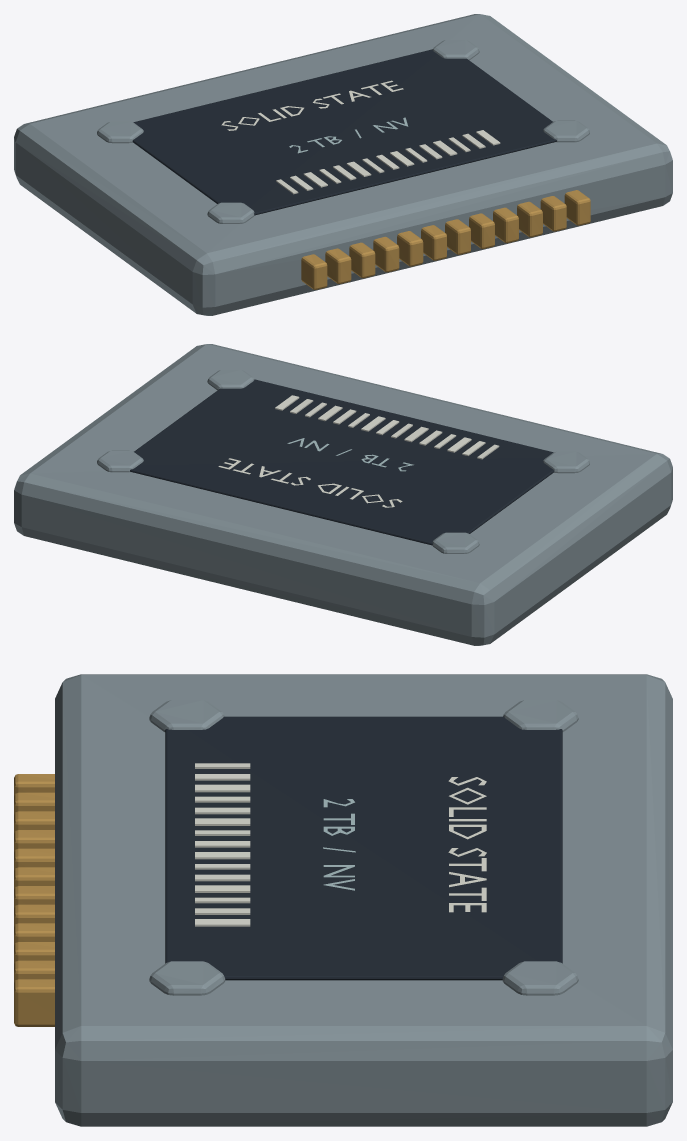
The model's file is ssd.glb.
The picture shows the model from 3 angles, top to bottom: view 1: azimuth 30°, elevation 25°; view 2: azimuth 150°, elevation 25°; view 3: azimuth 270°, elevation 25°; orthographic projection. The views are drawn at different scales.
Parts seen in each view (by area): view 1: ssd; view 2: ssd; view 3: ssd.
Part boxes in pixels (bbox=[...]): ssd: bbox=[14, 14, 672, 315]; ssd: bbox=[14, 344, 672, 645]; ssd: bbox=[14, 674, 672, 1126].
Size of the model in its own units: 0.4 by 0.054 by 0.2985.
